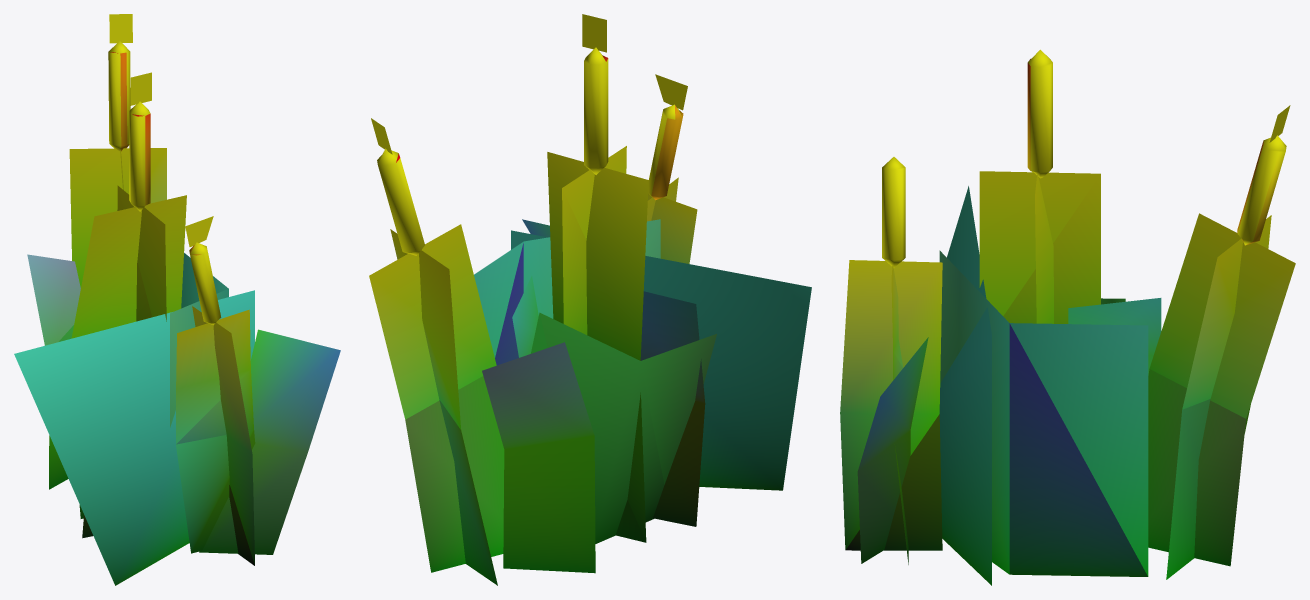
Rendered from plant_f_a_256.fbx.
The picture shows the model from 3 angles, left to right: view 1: azimuth 30°, elevation 25°; view 2: azimuth 150°, elevation 25°; view 3: azimuth 270°, elevation 25°; orthographic projection. The views are drawn at different scales.
Visible parts, largest first — view 1: plantfa256; view 2: plantfa256; view 3: plantfa256.
Boxes of the visible parts, x1,y1,x2,y2 form: plantfa256: (14, 14, 340, 585); plantfa256: (369, 14, 811, 585); plantfa256: (840, 49, 1295, 585).
Size of the model in its own units: 1.41 by 2.04 by 1.64.
